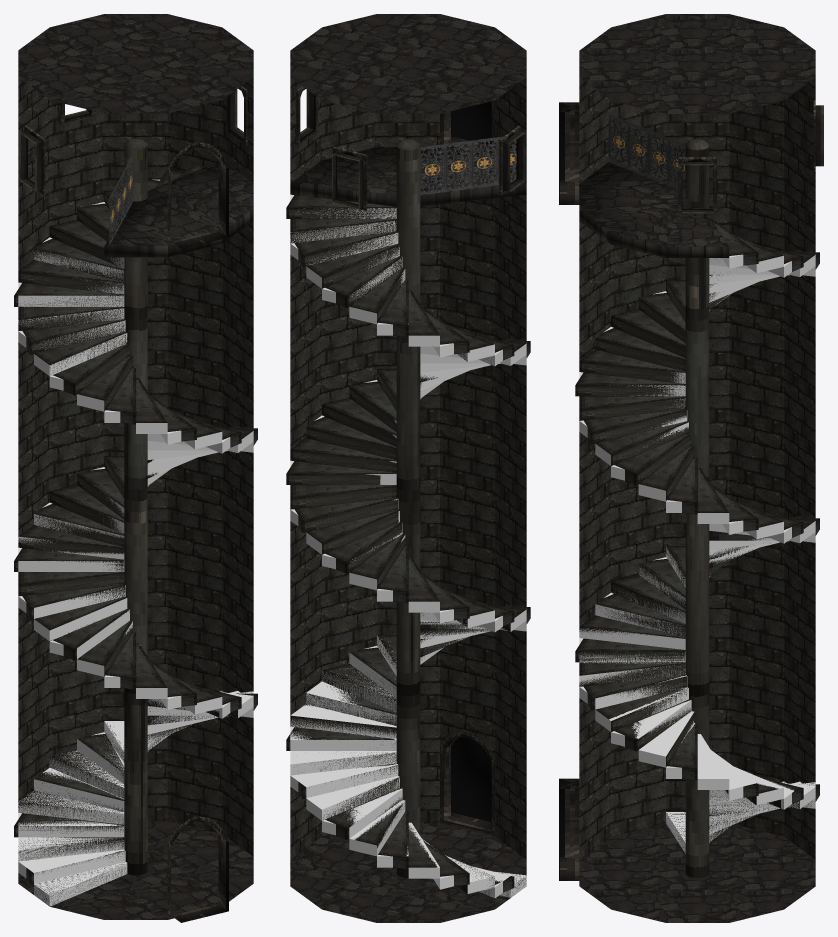
Rendered from stairwell.fbx.
The picture shows the model from 3 angles, left to right: view 1: azimuth 30°, elevation 25°; view 2: azimuth 150°, elevation 25°; view 3: azimuth 270°, elevation 25°; orthographic projection.
Visible parts, largest first — view 1: Circle, Circle.006, Circle.001, Circle.012, Circle.002, Circle.005, Circle.003, Circle.013, Circle.011, Circle.007, Circle.008, Circle.004 (+1 smaller); view 2: Circle, Circle.006, Circle.001, Circle.012, Circle.002, Circle.005, Circle.003, Circle.007, Circle.004, Circle.008, Circle.013, Circle.011 (+2 smaller); view 3: Circle, Circle.006, Circle.001, Circle.012, Circle.005, Circle.002, Circle.003, Circle.004, Circle.008, Circle.007, Circle.010, Circle.009.
Boxes of the visible parts, x1=… form: Circle: x1=18, y1=77, x2=253, y2=856; Circle.006: x1=14, y1=164, x2=257, y2=906; Circle.001: x1=18, y1=179, x2=253, y2=906; Circle.012: x1=18, y1=14, x2=253, y2=113; Circle.002: x1=124, y1=138, x2=147, y2=875; Circle.005: x1=18, y1=820, x2=253, y2=919; Circle.003: x1=104, y1=160, x2=253, y2=257; Circle.013: x1=167, y1=142, x2=222, y2=919; Circle.011: x1=19, y1=125, x2=45, y2=194; Circle.007: x1=171, y1=822, x2=228, y2=922; Circle.008: x1=171, y1=148, x2=228, y2=248; Circle.004: x1=109, y1=154, x2=133, y2=245; Circle: x1=290, y1=77, x2=526, y2=859; Circle.006: x1=286, y1=195, x2=530, y2=896; Circle.001: x1=290, y1=194, x2=526, y2=898; Circle.012: x1=290, y1=14, x2=526, y2=113; Circle.002: x1=396, y1=139, x2=420, y2=877; Circle.005: x1=290, y1=823, x2=526, y2=922; Circle.003: x1=290, y1=147, x2=526, y2=206; Circle.007: x1=443, y1=737, x2=491, y2=831; Circle.004: x1=420, y1=136, x2=516, y2=195; Circle.008: x1=443, y1=101, x2=491, y2=155; Circle.013: x1=440, y1=100, x2=494, y2=836; Circle.011: x1=499, y1=126, x2=525, y2=195; Circle: x1=579, y1=77, x2=815, y2=859; Circle.006: x1=575, y1=218, x2=819, y2=852; Circle.001: x1=579, y1=254, x2=815, y2=853; Circle.012: x1=579, y1=14, x2=815, y2=113; Circle.005: x1=579, y1=823, x2=815, y2=922; Circle.002: x1=685, y1=139, x2=709, y2=877; Circle.003: x1=579, y1=162, x2=729, y2=257; Circle.004: x1=608, y1=114, x2=685, y2=191; Circle.008: x1=559, y1=102, x2=579, y2=204; Circle.007: x1=559, y1=778, x2=579, y2=880; Circle.010: x1=678, y1=157, x2=716, y2=213; Circle.009: x1=813, y1=100, x2=823, y2=171.
Bounding box in the file's own units: 6.2 × 21.9 × 6.5.
Materials: 4 (4 with a texture image).
